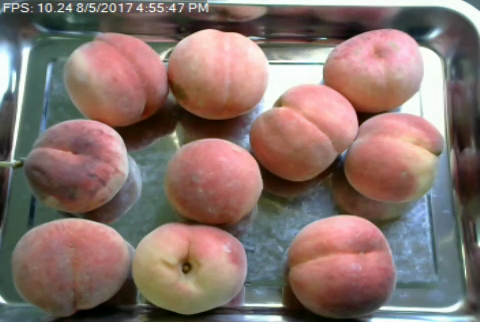Peach: (12, 216, 128, 316), (284, 215, 395, 319), (248, 82, 358, 181), (135, 222, 247, 316), (64, 32, 169, 128), (166, 25, 270, 120), (25, 118, 129, 213), (341, 111, 442, 203), (321, 25, 425, 114), (164, 138, 262, 224)
